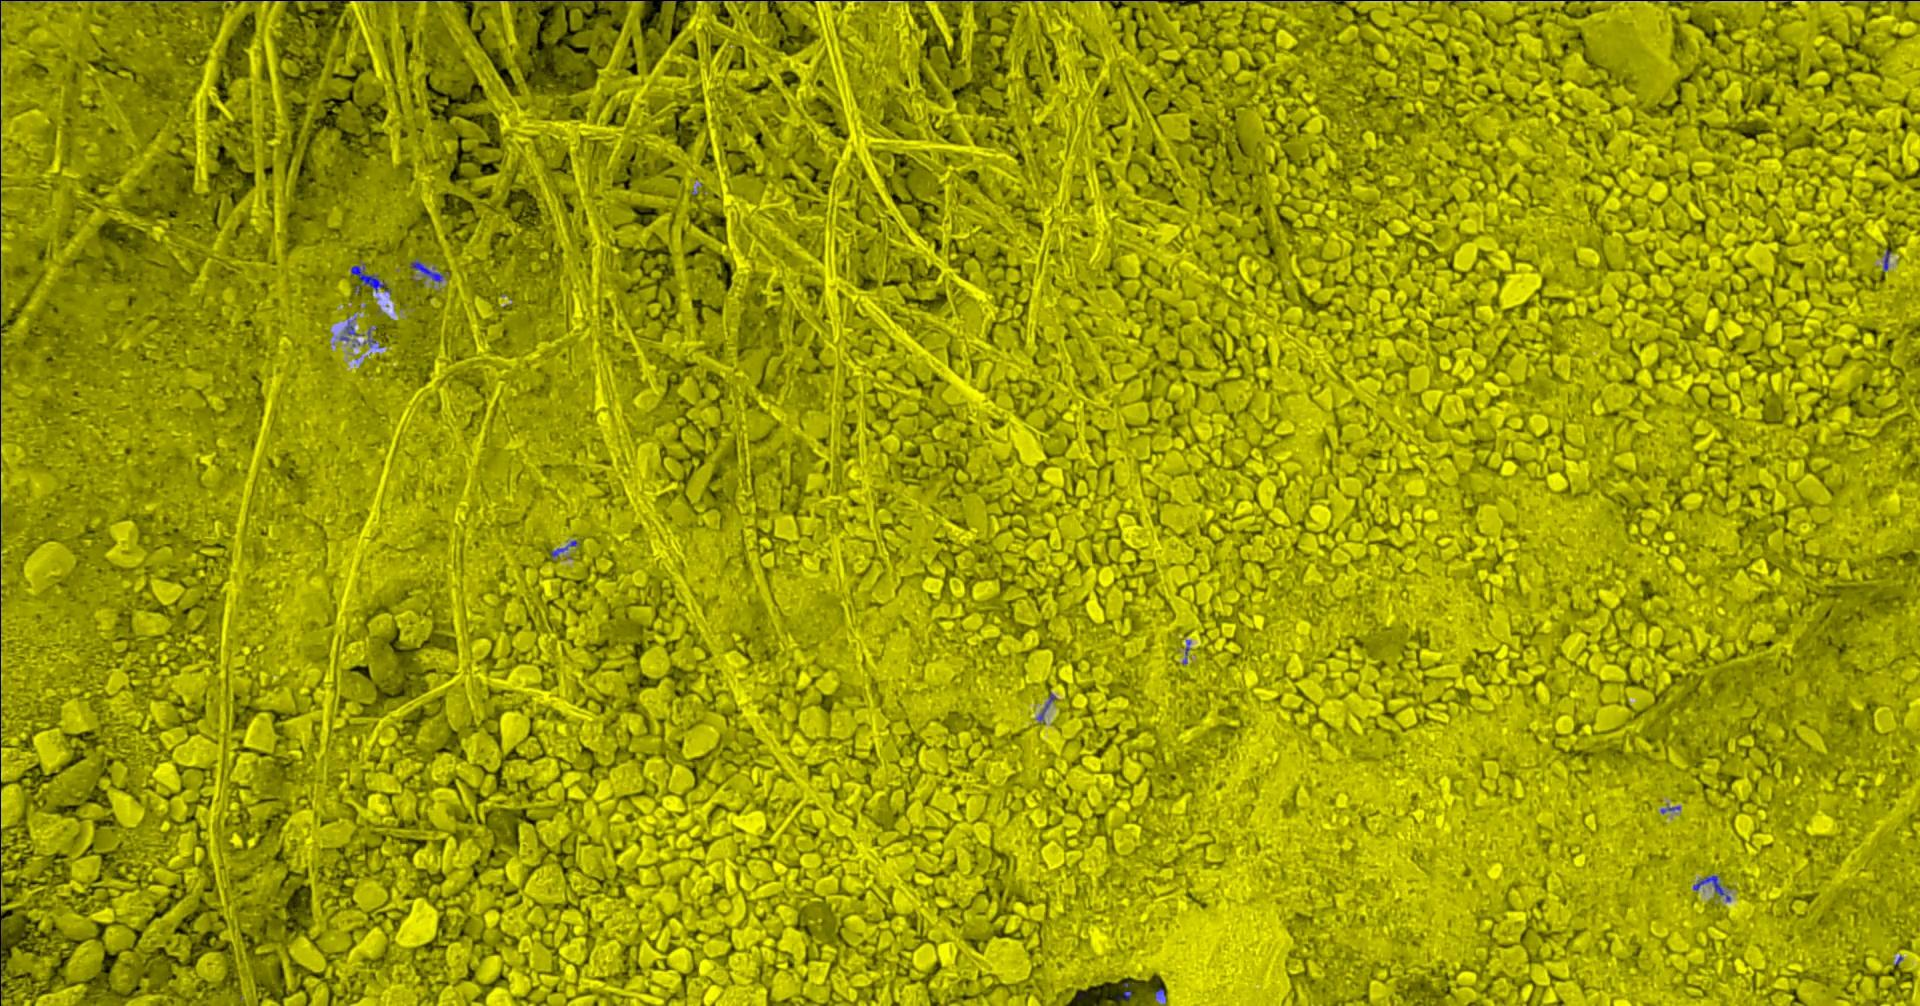ant: (350, 265, 390, 293), (1691, 875, 1730, 901), (409, 260, 442, 282), (339, 318, 362, 340), (1037, 691, 1055, 720), (550, 539, 577, 556), (1117, 981, 1131, 1000)
